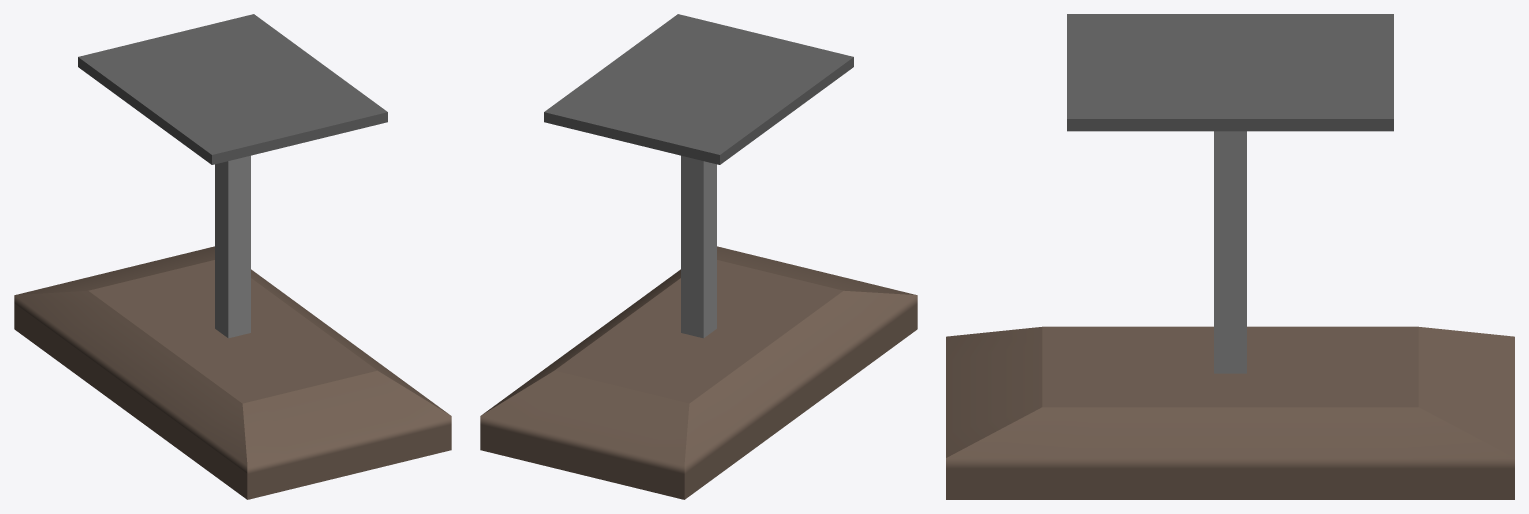
Rendered from Table.fbx.
The picture shows the model from 3 angles, left to right: view 1: azimuth 30°, elevation 25°; view 2: azimuth 150°, elevation 25°; view 3: azimuth 270°, elevation 25°; orthographic projection. The views are drawn at different scales.
Visible parts, largest first — view 1: pCube1, pCube3, pCube2; view 2: pCube1, pCube3, pCube2; view 3: pCube1, pCube3, pCube2.
Boxes of the visible parts, x1,y1,x2,y2 form: pCube1: (14,246,451,499); pCube3: (78,14,387,164); pCube2: (215,155,250,338); pCube1: (480,246,917,499); pCube3: (544,14,853,164); pCube2: (681,155,716,338); pCube1: (946,326,1514,499); pCube3: (1067,14,1393,131); pCube2: (1214,131,1246,373).
Size of the model in its own units: 1.16 by 1.66 by 2.29.
